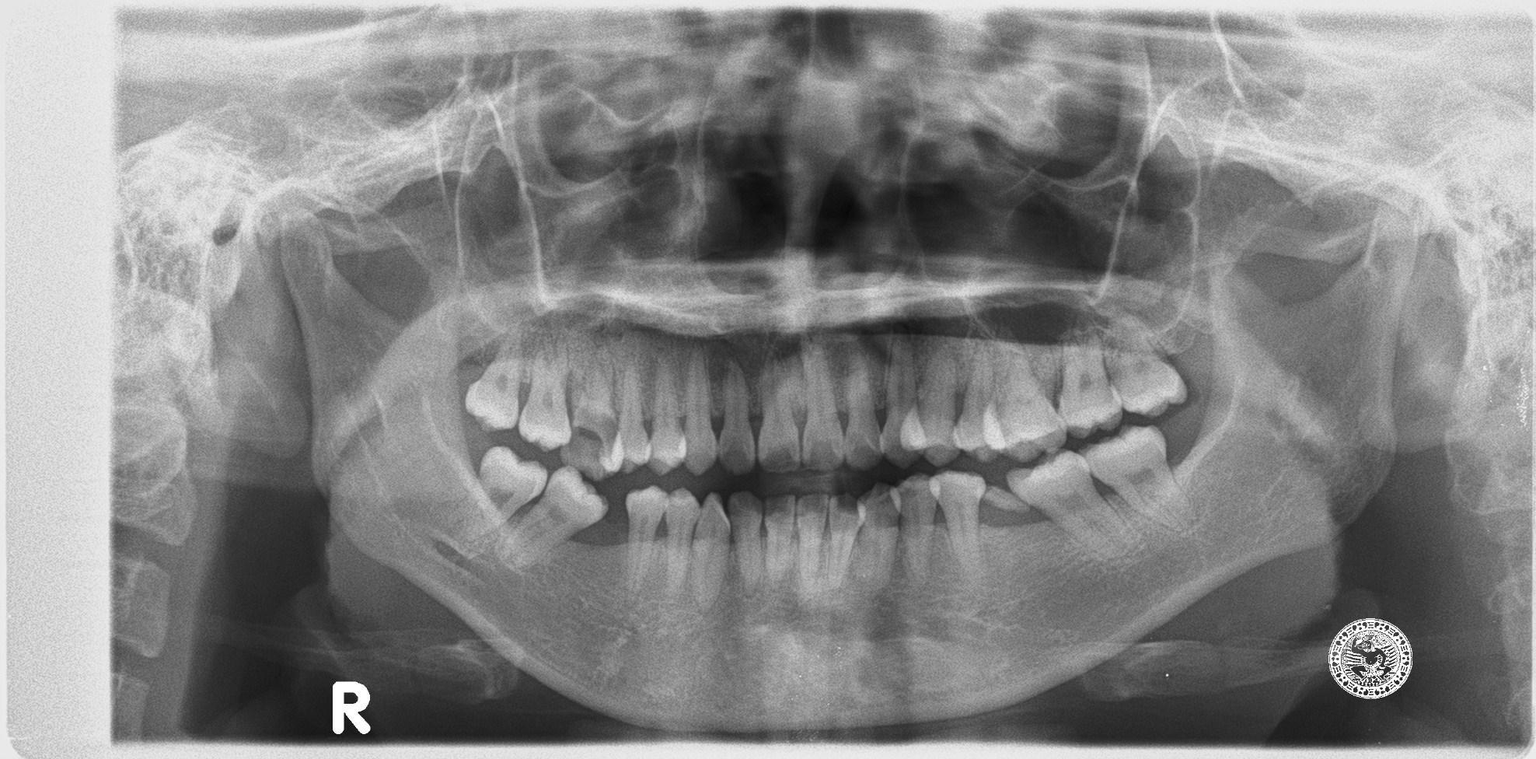Individual Tooth: (1007, 451, 1143, 559), (1074, 423, 1192, 531), (980, 335, 1071, 461), (493, 468, 606, 568), (560, 350, 625, 479), (1109, 312, 1187, 415), (459, 447, 547, 538), (1055, 332, 1124, 439), (901, 346, 961, 467), (928, 467, 990, 576), (890, 471, 944, 589), (879, 341, 927, 468), (800, 336, 843, 472), (951, 354, 1003, 465), (625, 484, 671, 606), (465, 335, 522, 429), (844, 349, 886, 474), (759, 350, 801, 473), (856, 481, 903, 589), (608, 359, 652, 474), (677, 343, 716, 472), (692, 493, 731, 618), (645, 362, 687, 474), (662, 487, 700, 609), (518, 362, 571, 449), (720, 360, 755, 477), (828, 493, 869, 590), (727, 490, 763, 597), (795, 494, 829, 590), (763, 493, 795, 590)
